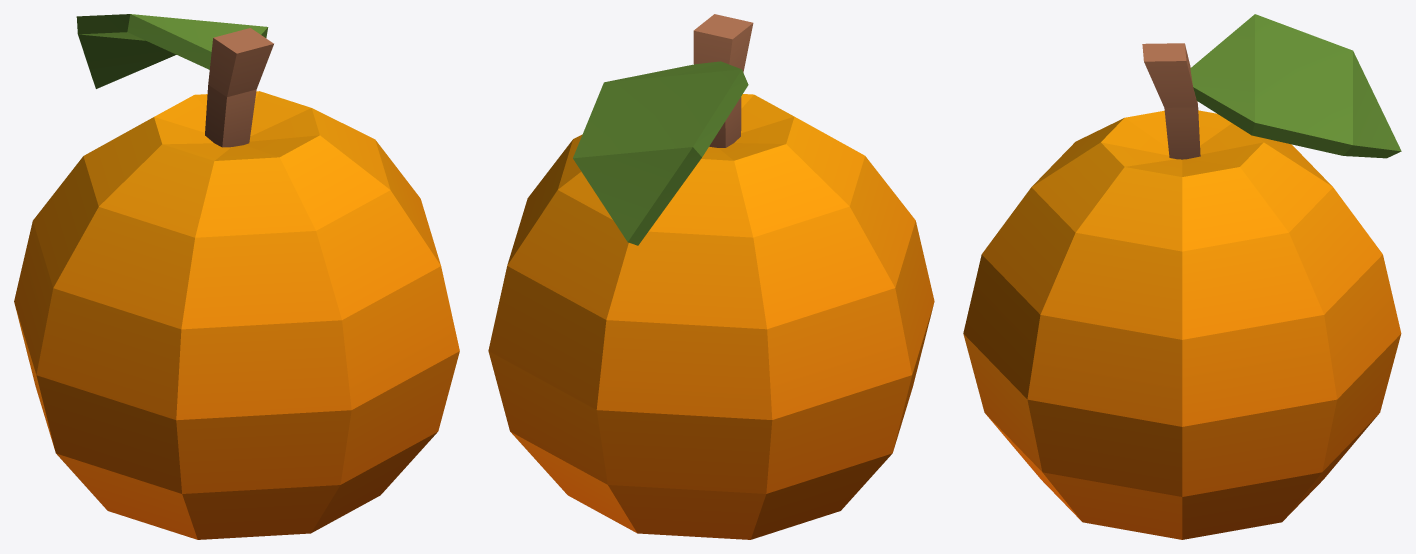
Rendered from orange.glb.
3 renders of one model, left to right at view 1: azimuth 30°, elevation 25°; view 2: azimuth 150°, elevation 25°; view 3: azimuth 270°, elevation 25°, orthographic. The views are drawn at different scales.
Parts seen in each view (by area): view 1: orange; view 2: orange; view 3: orange.
Boxes of the visible parts, bbox=[...] form: orange: bbox=[14, 14, 459, 539]; orange: bbox=[488, 14, 934, 539]; orange: bbox=[963, 14, 1401, 539].
Size of the model in its own units: 0.5821 by 0.6781 by 0.577.
Materials: 1 (1 with a texture image).
